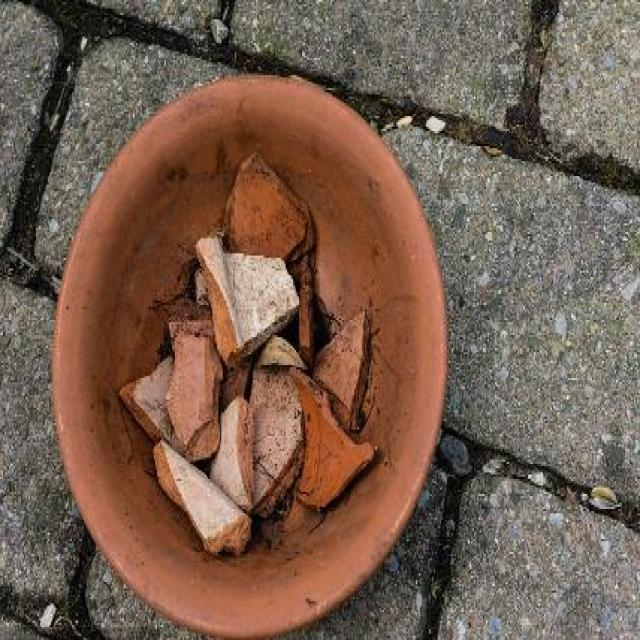-Other waste - ceramic-: (54, 71, 450, 635), (196, 235, 302, 358), (153, 438, 251, 558), (224, 162, 318, 266), (251, 368, 305, 516), (318, 304, 376, 428), (170, 330, 224, 458)
